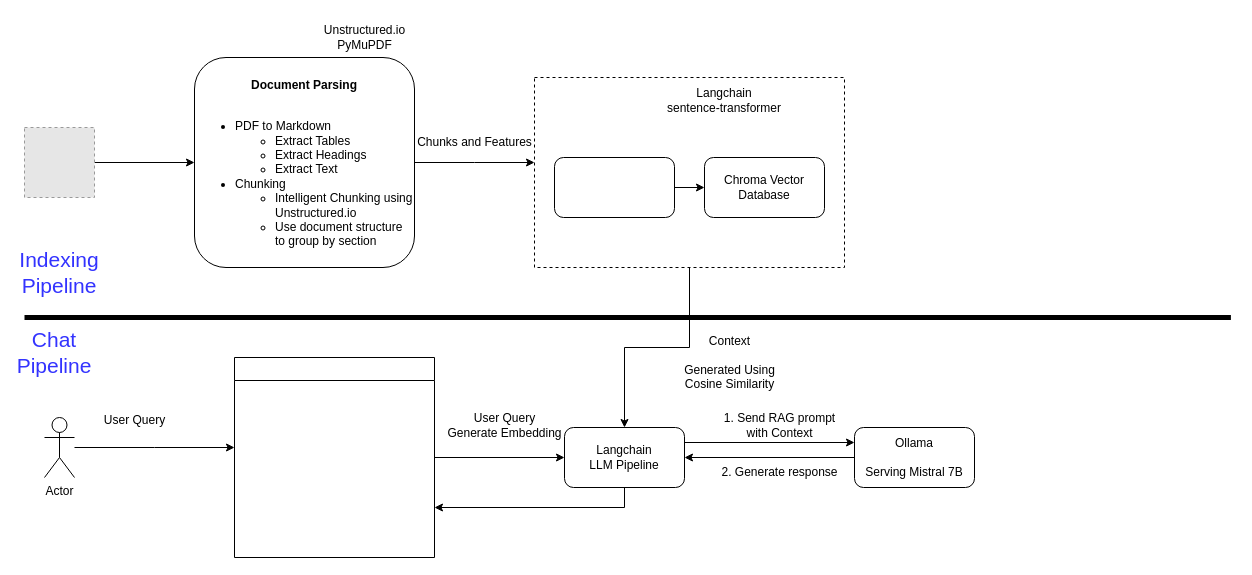
Some shapes in this 1252 by 575 pixel diagram are drawn without their labels. Grey dashed boxes stand in for pictures. Here are the shapes that lost their labels. From the top down, the box of each, then its label:
(554, 156, 674, 218): Embedding Function
(234, 356, 434, 558): Chatbot UI in Gradio
